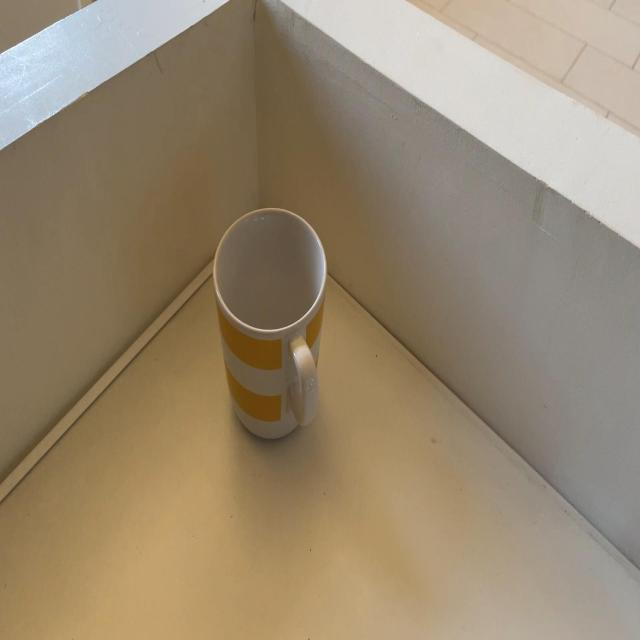cup: (212, 204, 337, 443)
